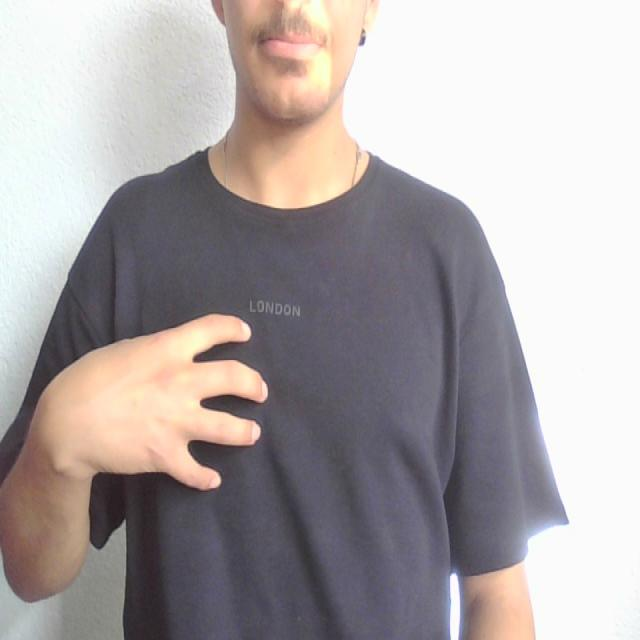Anne: (57, 306, 438, 508)
